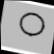no answer: (16, 9, 50, 41)
